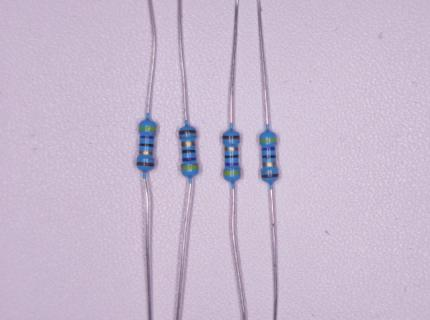Black band: (140, 143, 154, 148), (262, 155, 276, 158), (182, 150, 195, 153), (225, 155, 238, 158)
Brown band: (137, 162, 154, 167), (261, 173, 278, 178), (222, 135, 240, 139), (179, 130, 196, 134)
Gold band: (263, 162, 276, 167), (181, 142, 196, 146), (139, 151, 153, 155), (225, 147, 238, 151)
Violet band: (140, 135, 154, 139), (182, 157, 196, 161), (225, 163, 239, 166), (262, 147, 275, 150)
Yellow band: (139, 126, 156, 133), (181, 165, 198, 170), (260, 138, 277, 143), (224, 171, 240, 175)
